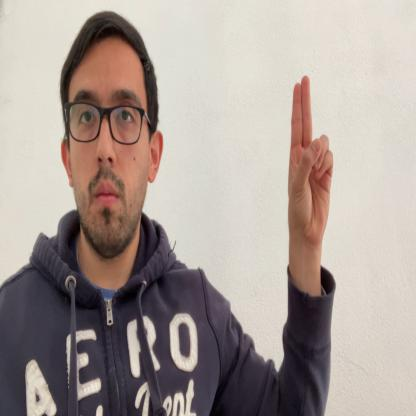U: (288, 75, 332, 254)
